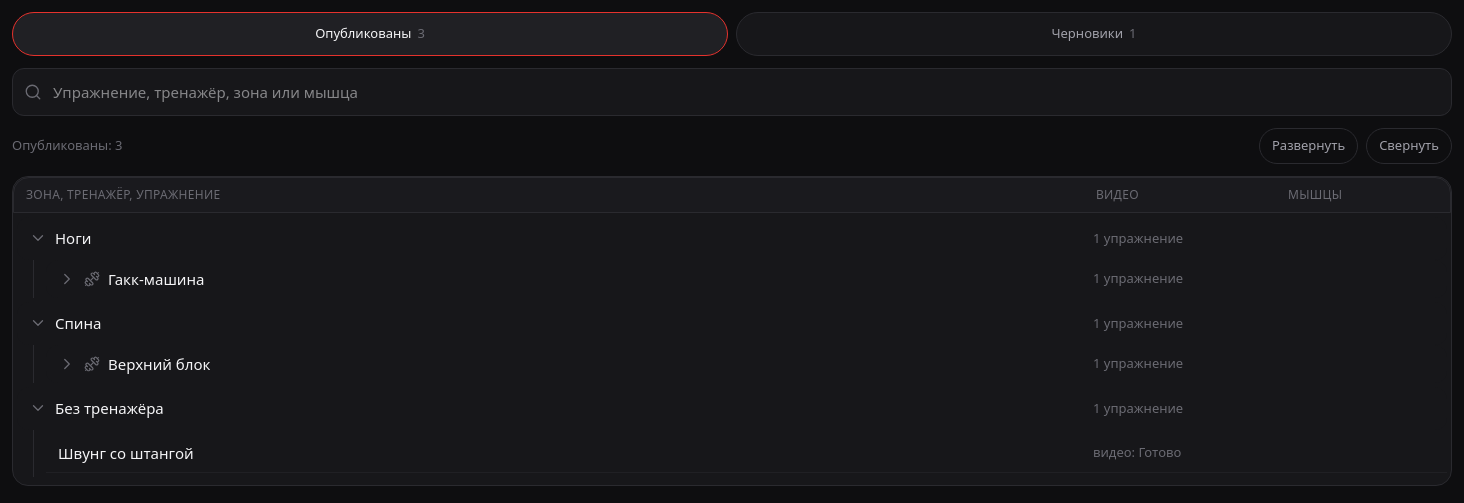
Test: переключение на черновики меняет дерево и адрес
Click the button "Черновики 1" at (1094, 34), box x1=736 y1=12 x2=1452 y2=56
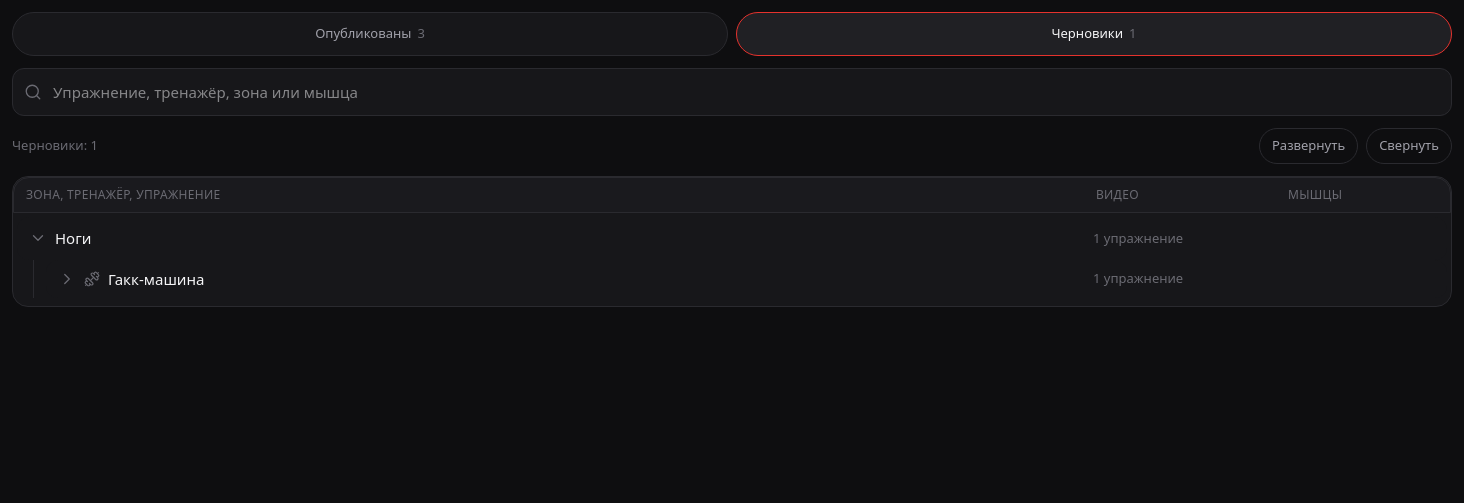
Expected: the button "Ноги 1 упражнение" is shown, x1=17 y1=217 x2=1447 y2=260
Now the button "Швунг со штангой" is gone
